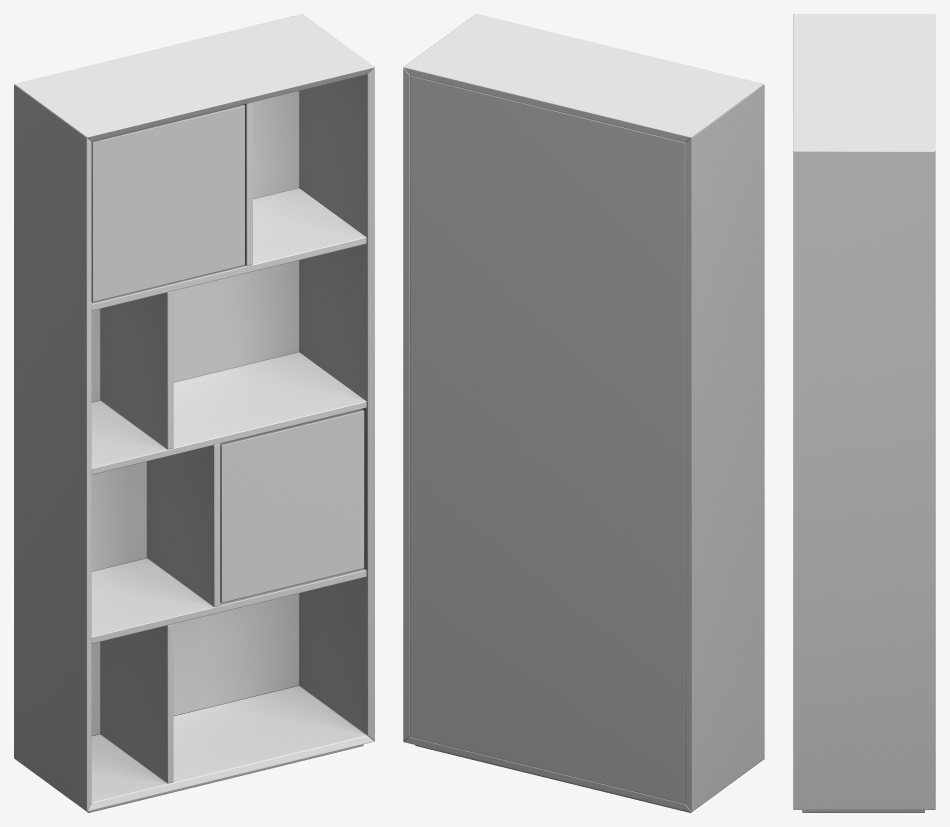
3 renders of one model, left to right at view 1: azimuth 30°, elevation 25°; view 2: azimuth 150°, elevation 25°; view 3: azimuth 270°, elevation 25°, orthographic. The views are drawn at different scales.
Visible parts, largest first — view 1: Stretto_Tall_Shelves_1; view 2: Stretto_Tall_Shelves_1; view 3: Stretto_Tall_Shelves_1.
Part boxes in pixels (left/top/right/bottom): Stretto_Tall_Shelves_1: left=14, top=14, right=374, bottom=812; Stretto_Tall_Shelves_1: left=403, top=14, right=764, bottom=812; Stretto_Tall_Shelves_1: left=793, top=14, right=935, bottom=812.
Size of the model in its own units: 7965 by 17964 by 3484.
1 material, 1 textured.
